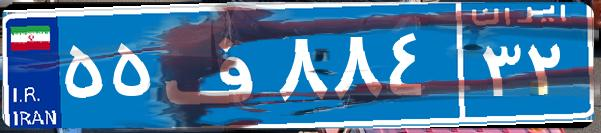2: (525, 38, 570, 115)
3: (475, 38, 525, 113)
4: (385, 28, 445, 110)
5: (57, 26, 110, 107), (110, 28, 158, 105)
8: (273, 28, 330, 110), (330, 28, 385, 110)
ف: (158, 15, 273, 115)
